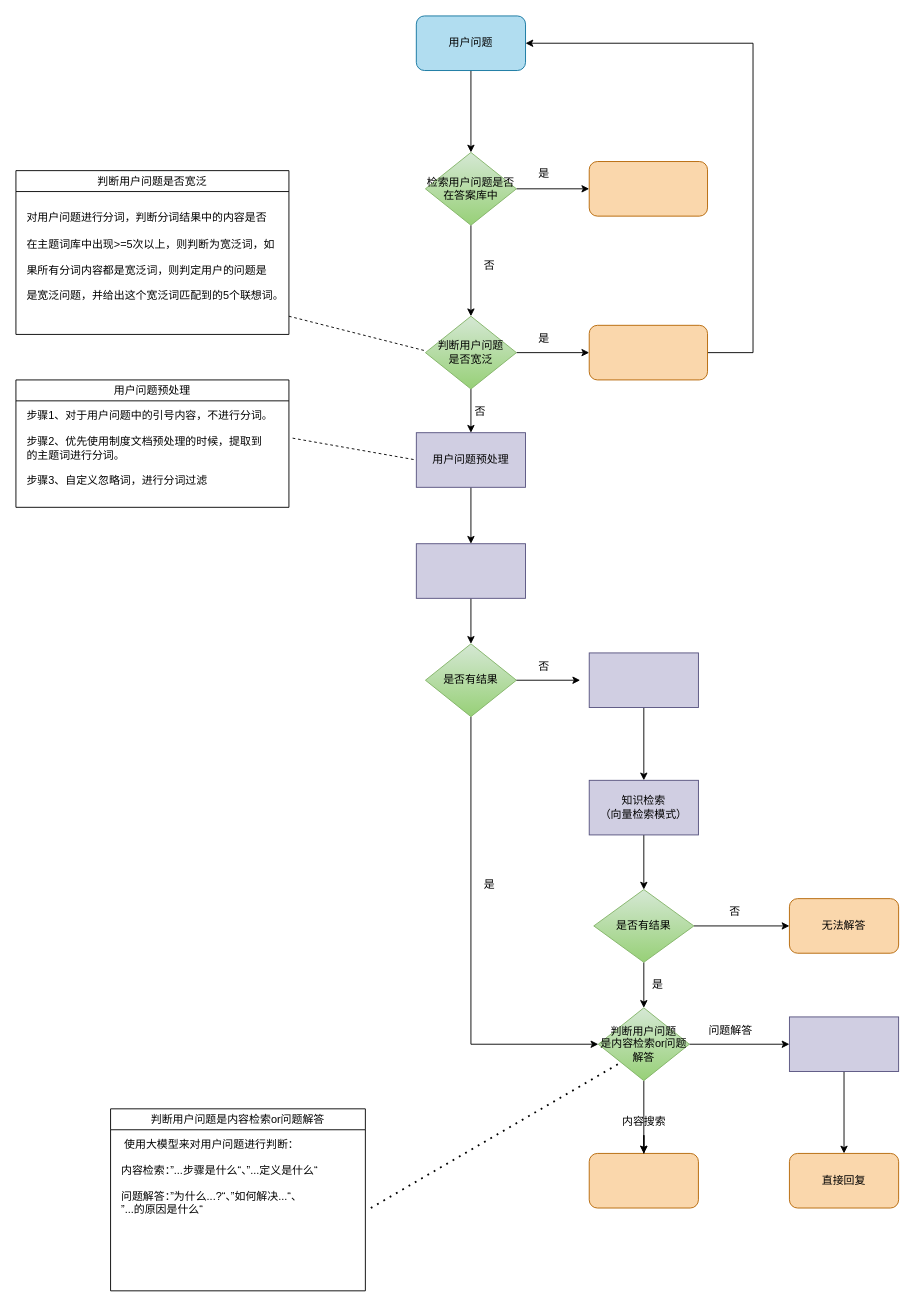
Image size: 915x1307. Some labels were removed from this diagram. The shapes that lost their labels are listed below. From the top down, each one's centre as x and y in pixels, then its label:
point 648,188: 直接回复 （标准答案）
point 648,352: 直接回复 （建议用户明确问题，并给可能的联想词）
point 470,570: 知识检索 （关键字检索模式，模糊匹配）
point 643,680: 使用大模型进行 原始问题改写
point 844,1044: 大模型解答 （基于检索内容）
point 643,1180: 直接回复 （返回文档原始内容）
